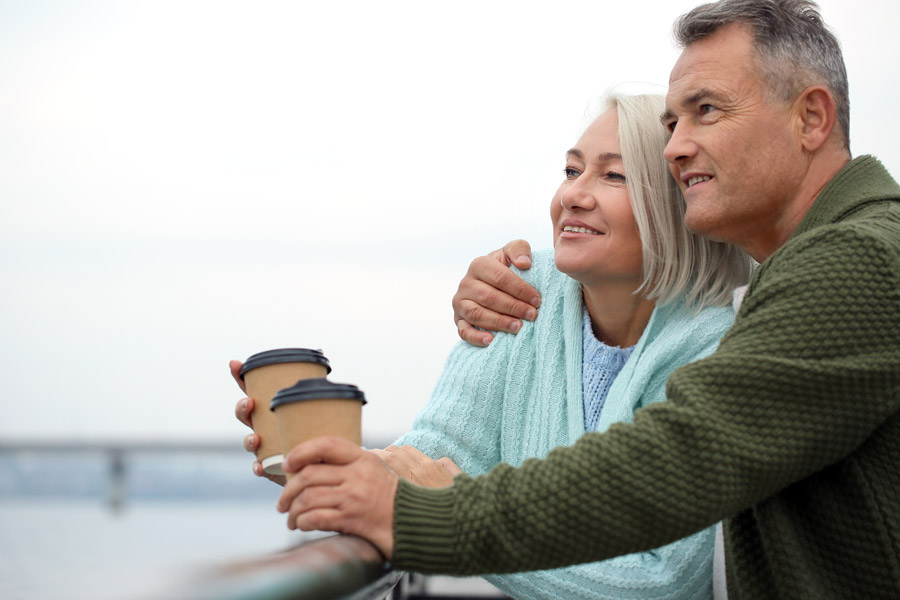female: (419, 80, 666, 439)
male: (657, 3, 900, 600)
